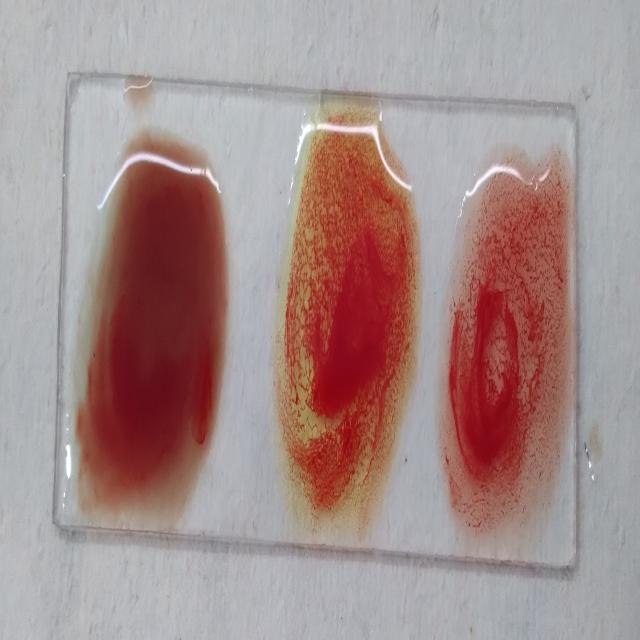B: (282, 103, 414, 536)
D: (443, 139, 562, 539)
